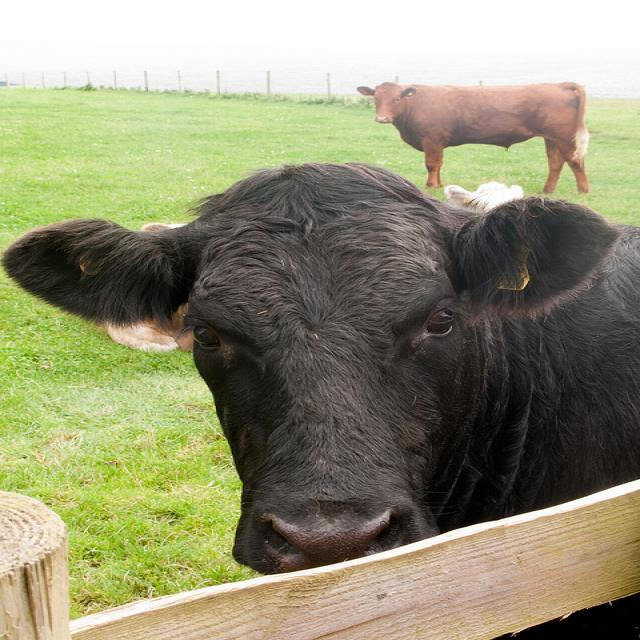cow: (0, 154, 639, 578), (354, 79, 590, 196)
